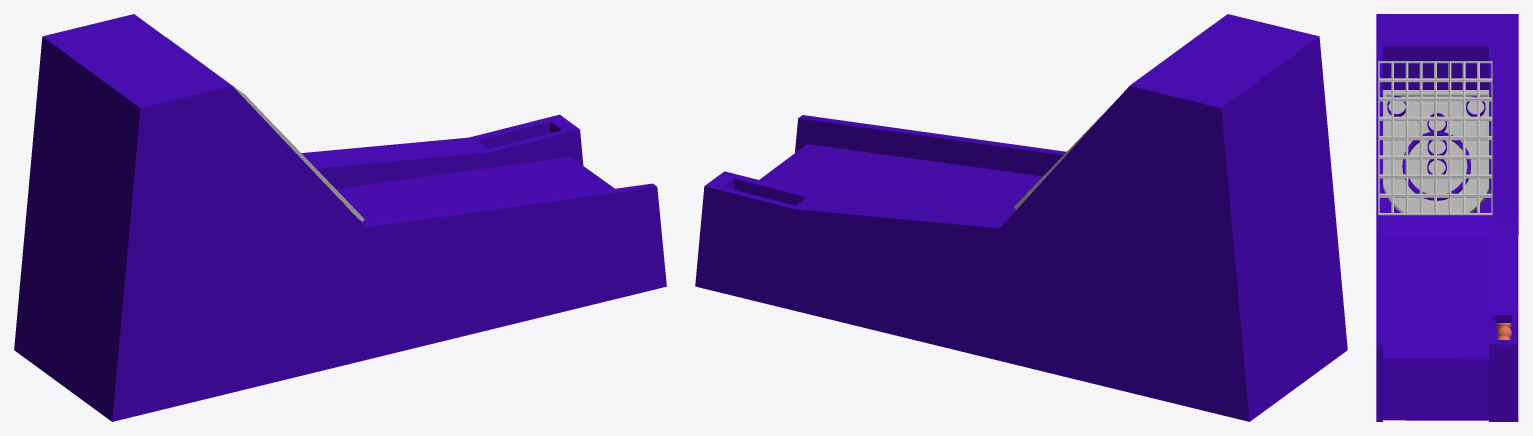
Rendered from Skee Ball.fbx.
The picture shows the model from 3 angles, left to right: view 1: azimuth 30°, elevation 25°; view 2: azimuth 150°, elevation 25°; view 3: azimuth 270°, elevation 25°; orthographic projection. The views are drawn at different scales.
Visible parts, largest first — view 1: Stand; view 2: Stand; view 3: Stand, Hole.006, Hole.005, Grating Unit.045, Grating Unit.029, Grating Unit.034, Grating Unit.013, Grating Unit.050, Grating Unit.047, Grating Unit.044, Grating Unit.043.
Boxes of the visible parts, x1,y1,x2,y2 form: Stand: [14, 14, 666, 421]; Stand: [695, 14, 1347, 421]; Stand: [1376, 14, 1518, 421]; Hole.006: [1383, 90, 1488, 212]; Hole.005: [1402, 131, 1470, 200]; Grating Unit.045: [1407, 195, 1421, 215]; Grating Unit.029: [1407, 99, 1421, 118]; Grating Unit.034: [1407, 176, 1421, 195]; Grating Unit.013: [1407, 80, 1421, 99]; Grating Unit.050: [1407, 157, 1421, 176]; Grating Unit.047: [1378, 195, 1392, 215]; Grating Unit.044: [1421, 195, 1435, 215]; Grating Unit.043: [1478, 195, 1492, 215].
Size of the model in its own units: 5396 by 2856 by 1653.
